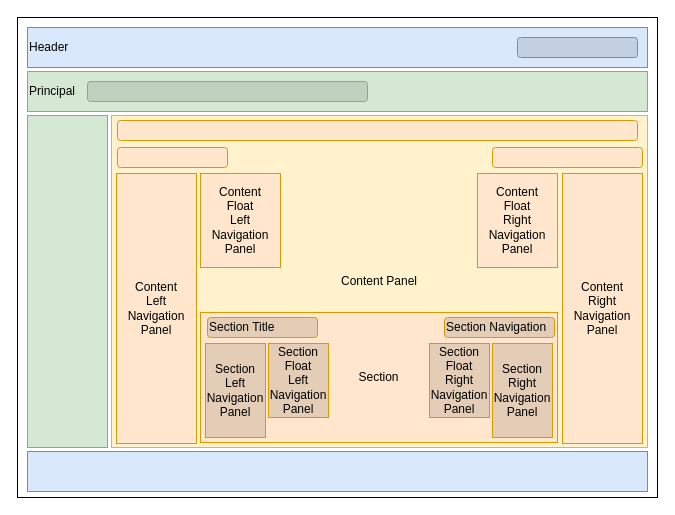
This 675x515 diagram has some shape labels left out. Here are the shapes that lost their labels. From the top down, the centre of each, then its label:
(x=577, y=47): Root Navigation
(x=227, y=91): Principal Navigation
(x=377, y=130): Breadcrumb
(x=172, y=157): Title
(x=567, y=157): Active action navigation
(x=67, y=281): Navigation Panel
(x=337, y=471): Footer
